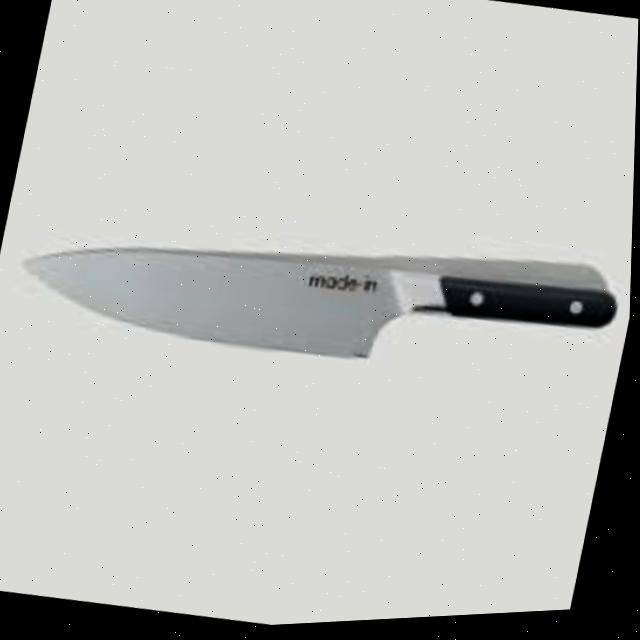Knife: (9, 168, 629, 421)
